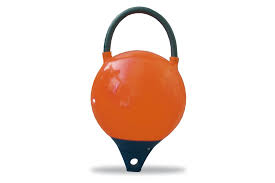buoy: (90, 50, 187, 141)
